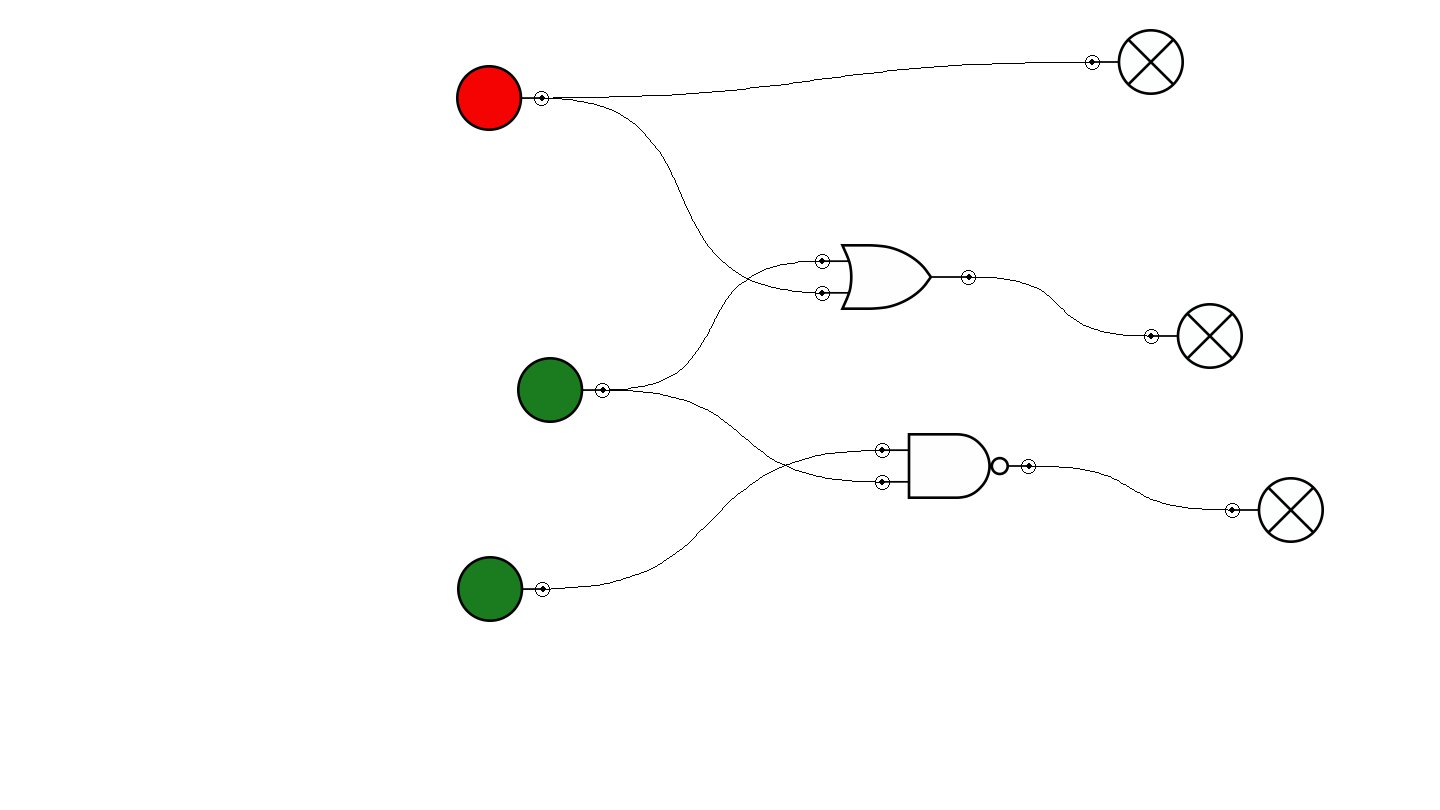bulb: (1085, 29, 1184, 95), (1225, 477, 1324, 543), (1144, 303, 1243, 369)
nand: (875, 433, 1036, 499)
or: (815, 244, 976, 310)
switch_False: (456, 65, 549, 131)
switch_True: (457, 556, 550, 622), (517, 357, 610, 423)
